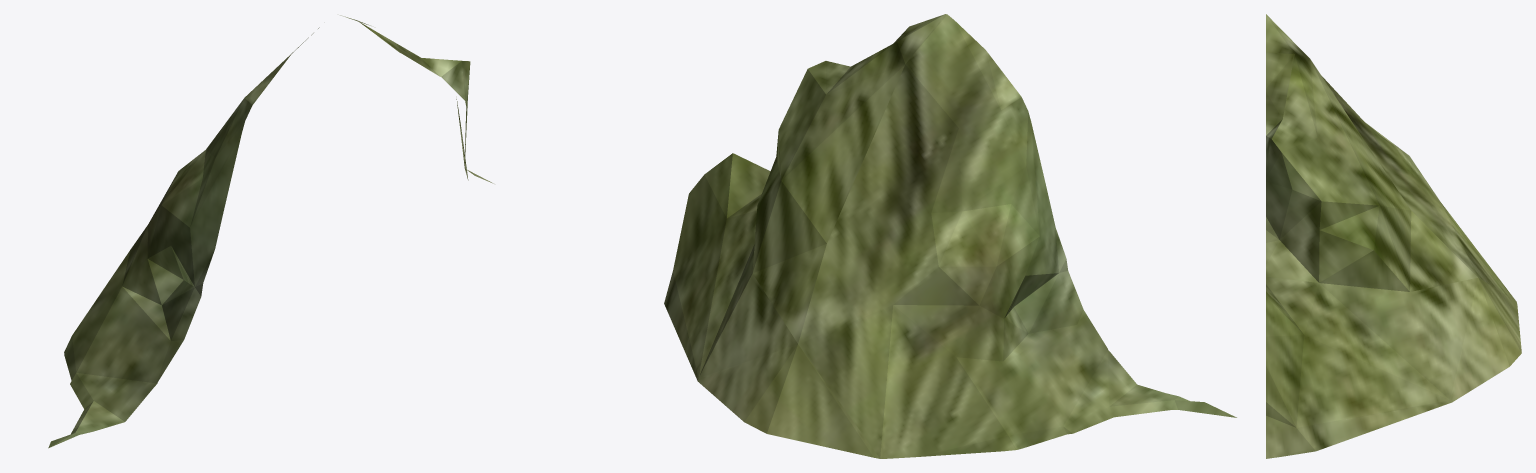
3 renders of one model, left to right at view 1: azimuth 30°, elevation 25°; view 2: azimuth 150°, elevation 25°; view 3: azimuth 270°, elevation 25°, orthographic. The views are drawn at different scales.
Size of the model in its own units: 3.55 by 2 by 1.46.
1 material, 1 textured.
